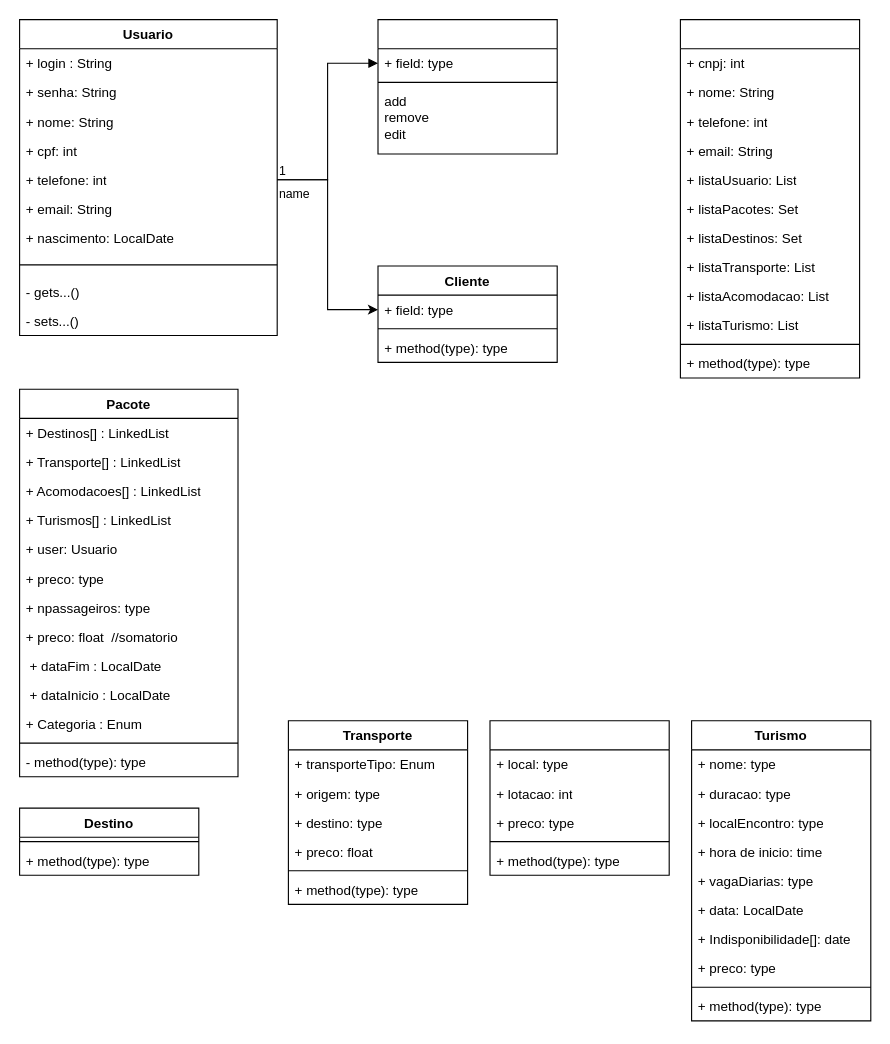
Some shapes in this 890 by 1044 pixel diagram are drawn without their labels. Here are the shapes that lost their labels. From the top down, the box of each, then its label:
(377, 18, 557, 154): Admin
(679, 18, 860, 378): Agencia
(489, 720, 669, 875): Acomodacao
